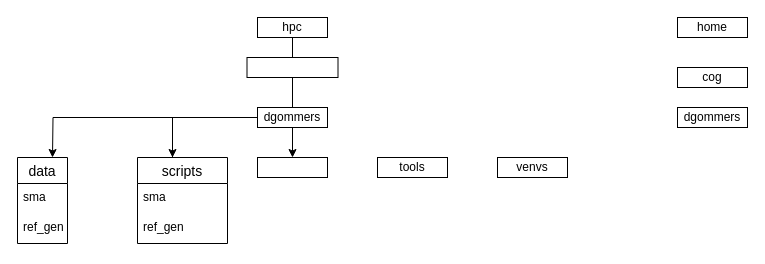
Some shapes in this 765 by 264 pixel diagram are drawn without their labels. Here are the shapes that lost their labels. From the top down, the centre of each, then its label:
At point (292, 67): "dlab_haaften".
At point (292, 167): "slurm_output".
